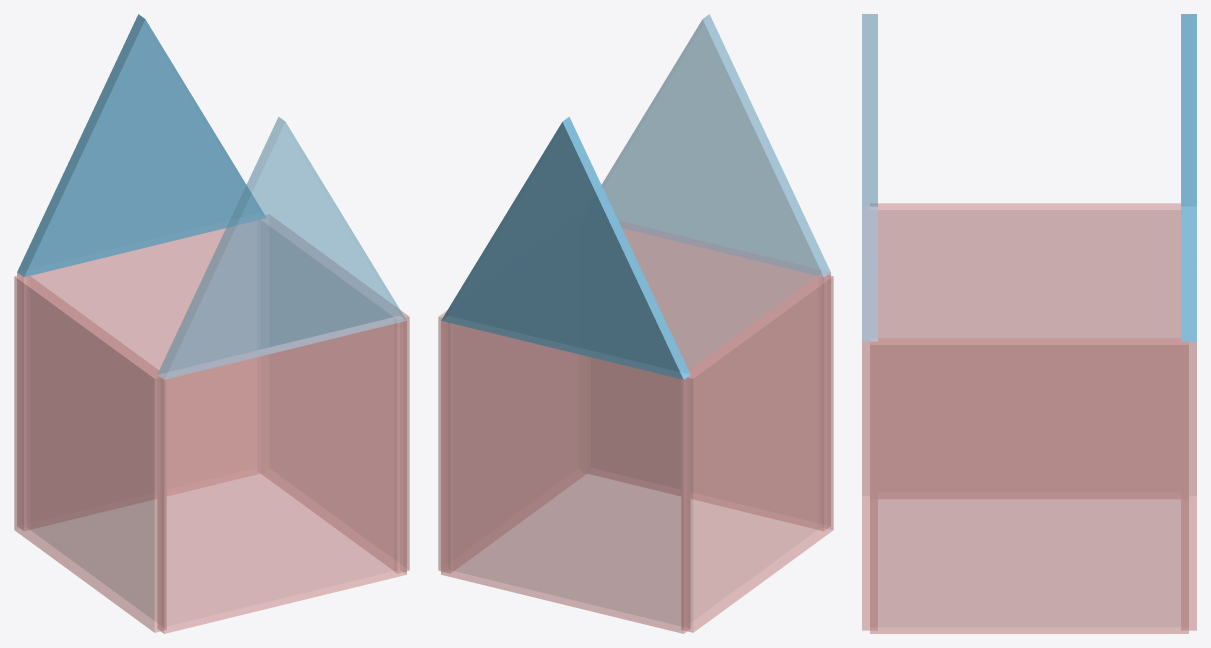
File: casa_step7.glb
3 views of the same model, side by side, from view 1: azimuth 30°, elevation 25°; view 2: azimuth 150°, elevation 25°; view 3: azimuth 270°, elevation 25° (orthographic). The views are drawn at different scales.
Visible parts, largest first — view 1: qN, qS, qW, qE, gable_S, gable_N; view 2: qS, qN, qW, gable_S, gable_N, qE; view 3: qE, qW, qN, gable_N, gable_S, qS.
Boxes of the visible parts, left/top/right/bottom form: qN: left=157, top=316, right=406, bottom=633; qS: left=17, top=221, right=259, bottom=530; qW: left=14, top=275, right=166, bottom=632; qE: left=261, top=214, right=409, bottom=573; gable_S: left=17, top=14, right=266, bottom=277; gable_N: left=157, top=117, right=406, bottom=379; qS: left=441, top=321, right=690, bottom=633; qN: left=588, top=221, right=830, bottom=530; qW: left=681, top=275, right=833, bottom=632; gable_S: left=441, top=116, right=690, bottom=379; gable_N: left=602, top=14, right=830, bottom=277; qE: left=438, top=311, right=586, bottom=573; qE: left=870, top=338, right=1188, bottom=633; qW: left=870, top=203, right=1180, bottom=498; qN: left=862, top=207, right=877, bottom=630; gable_N: left=862, top=14, right=877, bottom=341; gable_S: left=1181, top=14, right=1196, bottom=341; qS: left=1181, top=341, right=1196, bottom=630.
Bounding box in the file's own units: 1.05 × 1.9 × 1.05.
